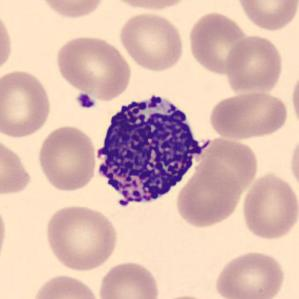Basophil: (87, 87, 213, 218)
Platelets: (75, 92, 97, 110)
RBC: (42, 202, 120, 273), (53, 33, 134, 100), (174, 154, 244, 230), (186, 9, 252, 76), (207, 89, 291, 141), (117, 10, 186, 73), (36, 123, 98, 192), (239, 170, 298, 242), (211, 248, 287, 299), (0, 66, 53, 139), (222, 34, 285, 95), (199, 136, 256, 198), (96, 258, 162, 299), (0, 133, 34, 199), (234, 0, 298, 33), (29, 272, 102, 299), (36, 0, 108, 20), (105, 0, 193, 12), (0, 7, 15, 76), (287, 131, 299, 193), (288, 66, 299, 129), (0, 197, 9, 270), (150, 292, 220, 299)
